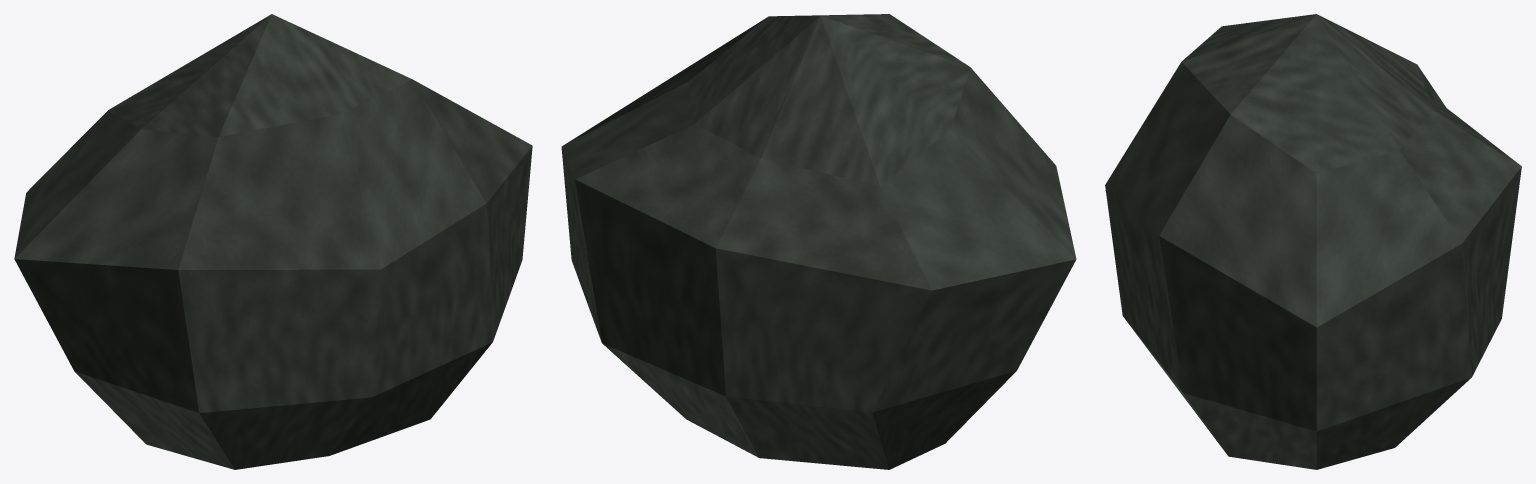
File: Rock_01.glb
The picture shows the model from 3 angles, left to right: view 1: azimuth 30°, elevation 25°; view 2: azimuth 150°, elevation 25°; view 3: azimuth 270°, elevation 25°; orthographic projection. The views are drawn at different scales.
Visible parts, largest first — view 1: Rock_01; view 2: Rock_01; view 3: Rock_01.
Boxes of the visible parts, x1,y1,x2,y2 form: Rock_01: (14, 14, 532, 469); Rock_01: (561, 14, 1076, 469); Rock_01: (1105, 14, 1521, 469).
Bounding box in the file's own units: 0.9401 × 0.6931 × 0.6733.
1 material, 1 textured.
